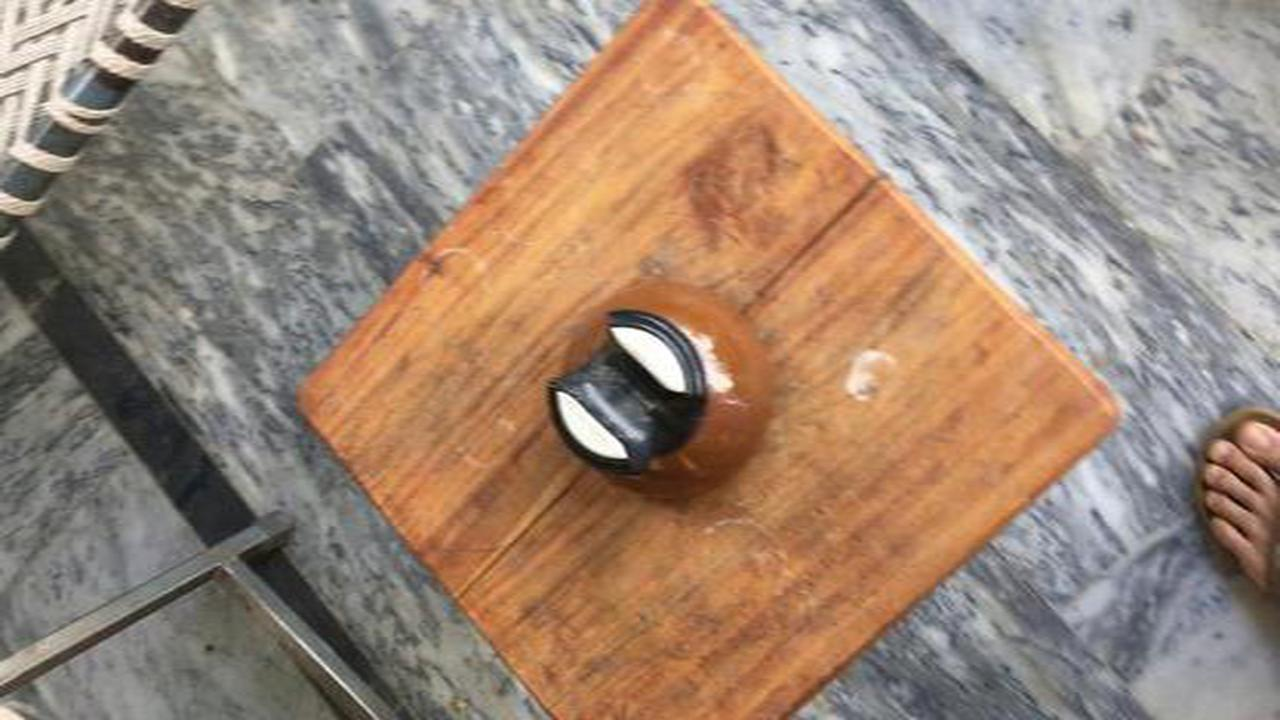insulator_pin: (517, 274, 797, 516)
